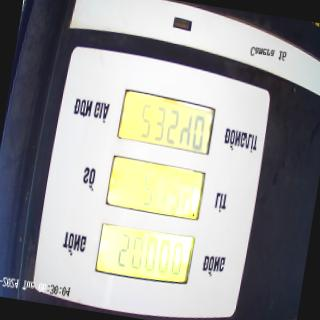screen: (93, 82, 219, 292)
